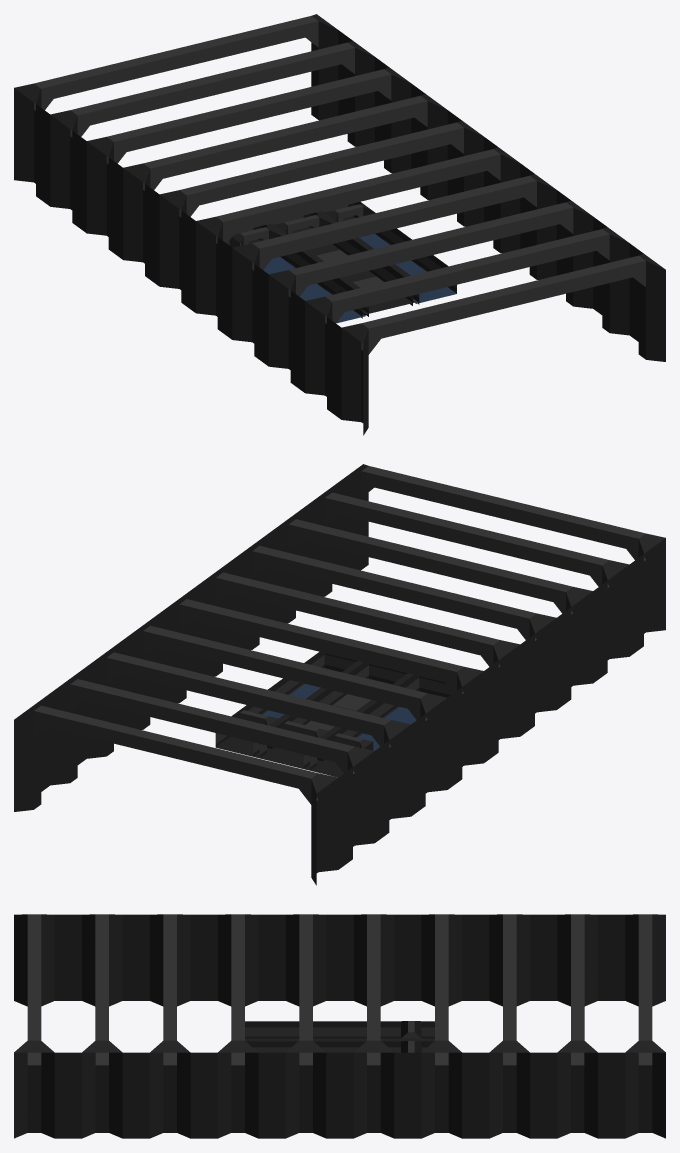
File: Environment.fbx
The picture shows the model from 3 angles, top to bottom: view 1: azimuth 30°, elevation 25°; view 2: azimuth 150°, elevation 25°; view 3: azimuth 270°, elevation 25°; orthographic projection. The views are drawn at different scales.
Parts seen in each view (by area): view 1: Environment; view 2: Environment; view 3: Environment.
Part boxes in pixels (x1,y1,x2,y2): Environment: [14, 14, 665, 435]; Environment: [14, 464, 665, 885]; Environment: [14, 914, 665, 1138].
Bounding box in the file's own units: 9600 × 3100 × 19200.
